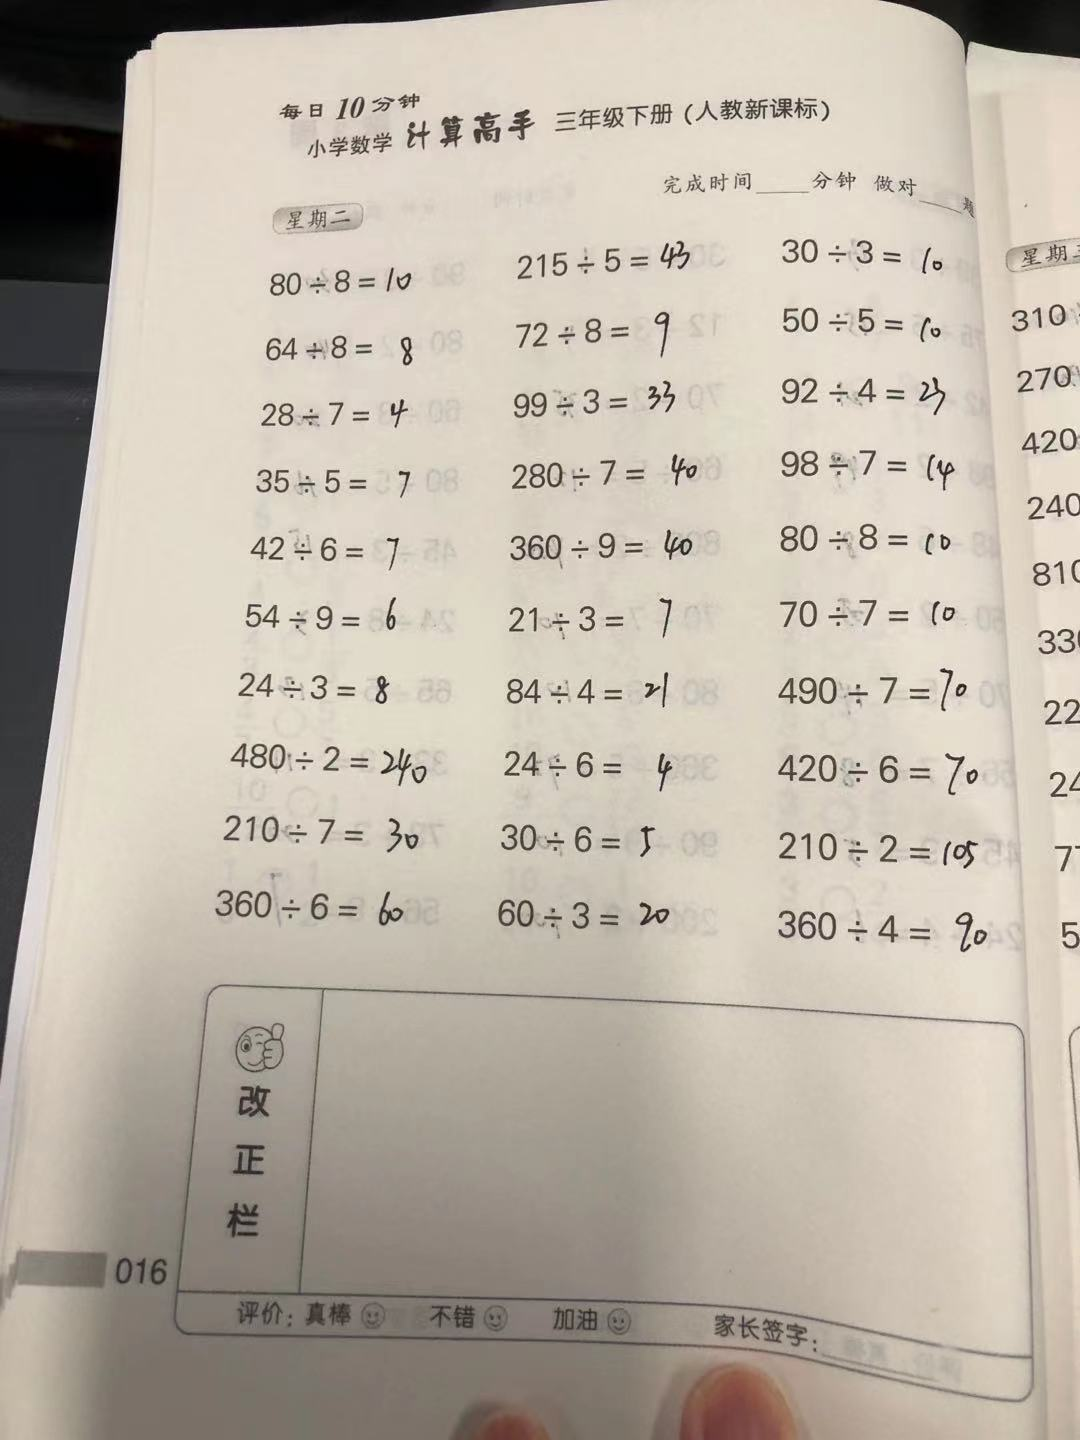equation: (770, 902, 1007, 975), (761, 742, 1001, 807), (756, 819, 991, 885), (487, 805, 696, 875), (504, 442, 747, 501), (214, 802, 441, 865), (224, 739, 451, 801), (490, 736, 713, 799), (494, 587, 699, 653), (207, 876, 425, 938), (501, 516, 716, 576), (768, 665, 994, 719), (770, 442, 984, 498), (776, 228, 967, 290), (510, 304, 701, 364), (767, 301, 967, 356), (225, 595, 434, 647), (767, 373, 981, 422), (773, 512, 974, 564), (237, 462, 454, 510), (501, 373, 699, 425), (241, 327, 434, 379), (481, 890, 674, 941), (494, 670, 694, 719), (768, 596, 982, 641), (233, 665, 414, 718), (257, 393, 436, 444), (251, 261, 441, 307), (236, 533, 427, 576), (505, 241, 711, 278)
